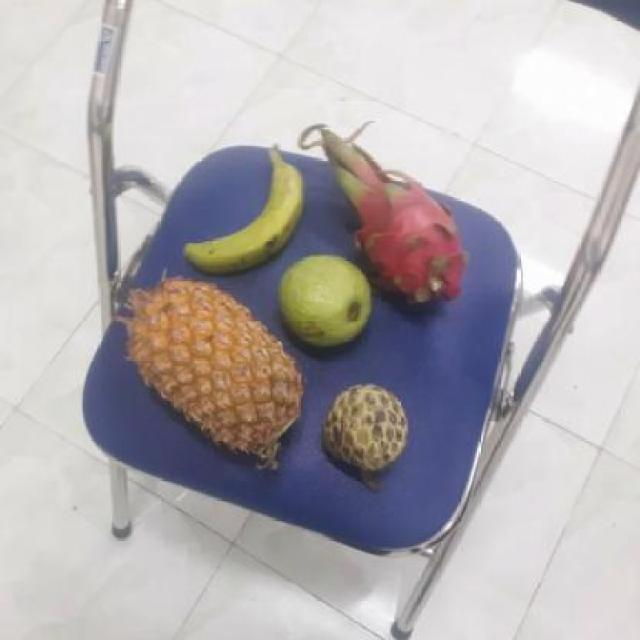banana: (176, 147, 302, 271)
dragon fruit: (320, 152, 463, 306)
guava: (274, 253, 374, 345)
pineapple: (119, 278, 303, 467)
sugar apple: (313, 383, 409, 474)
